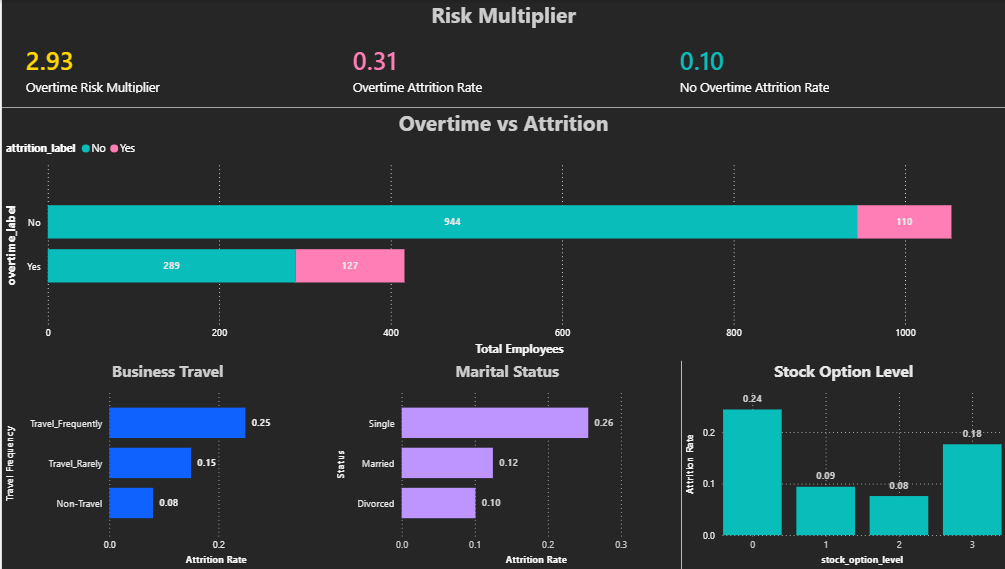

This screenshot's page, from the dashboard's own definition file:
{"tool":"powerbi","page":{"name":"Risk Factors","canvas":[1280,720],"ordinal":1},"visuals":[{"type":"cardVisual","title":"Risk Multiplier","fields":{"Data":["Measuress.Overtime Risk Multiplier","Measuress.Overtime Attrition Rate","Measuress.No Overtime Attrition Rate"]},"box":[0,0,1270,136.1],"z":0},{"type":"barChart","title":"Overtime vs Attrition","fields":{"Category":["fact_employee_attrition.overtime_label"],"Y":["Measuress.Total Employees"],"Series":["fact_employee_attrition.attrition_label"]},"box":[0,136.1,1270,319.7],"z":1000},{"type":"barChart","title":"Business Travel","fields":{"Category":["dim_business_travel.business_travel_name"],"Y":["Measuress.Attrition Rate"]},"box":[0,455.8,419.6,264.7],"z":2000},{"type":"barChart","title":"Marital Status","fields":{"Category":["dim_marital_status.marital_status_name"],"Y":["Measuress.Attrition Rate"]},"box":[419.6,455.8,440.8,264.7],"z":3000},{"type":"columnChart","title":"Stock Option Level","fields":{"Category":["fact_employee_attrition.stock_option_level"],"Y":["Measuress.Attrition Rate"]},"box":[860.4,455.8,409.6,264.7],"z":4000}]}

Visuals, with their boxes in screenshot pixels (x1, y1, x2, y2), scaled from the page's 1280x720 canvas onto the 1005x569 screenshot:
"Risk Multiplier" cardVisual: left=0, top=0, right=997, bottom=108
"Overtime vs Attrition" barChart: left=0, top=108, right=997, bottom=360
"Business Travel" barChart: left=0, top=360, right=329, bottom=568
"Marital Status" barChart: left=329, top=360, right=676, bottom=568
"Stock Option Level" columnChart: left=676, top=360, right=997, bottom=568
